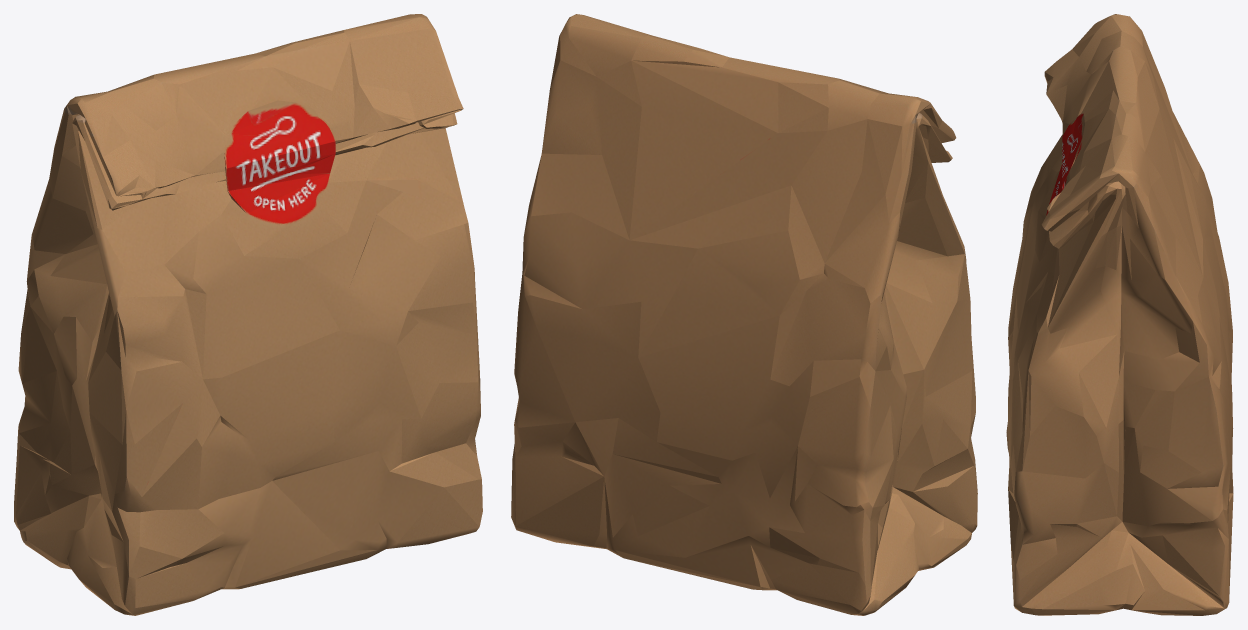
The picture shows the model from 3 angles, left to right: view 1: azimuth 30°, elevation 25°; view 2: azimuth 150°, elevation 25°; view 3: azimuth 270°, elevation 25°; orthographic projection. The views are drawn at different scales.
Size of the model in its own units: 1.49 by 1.9 by 0.8733.
Materials: 1 (1 with a texture image).
